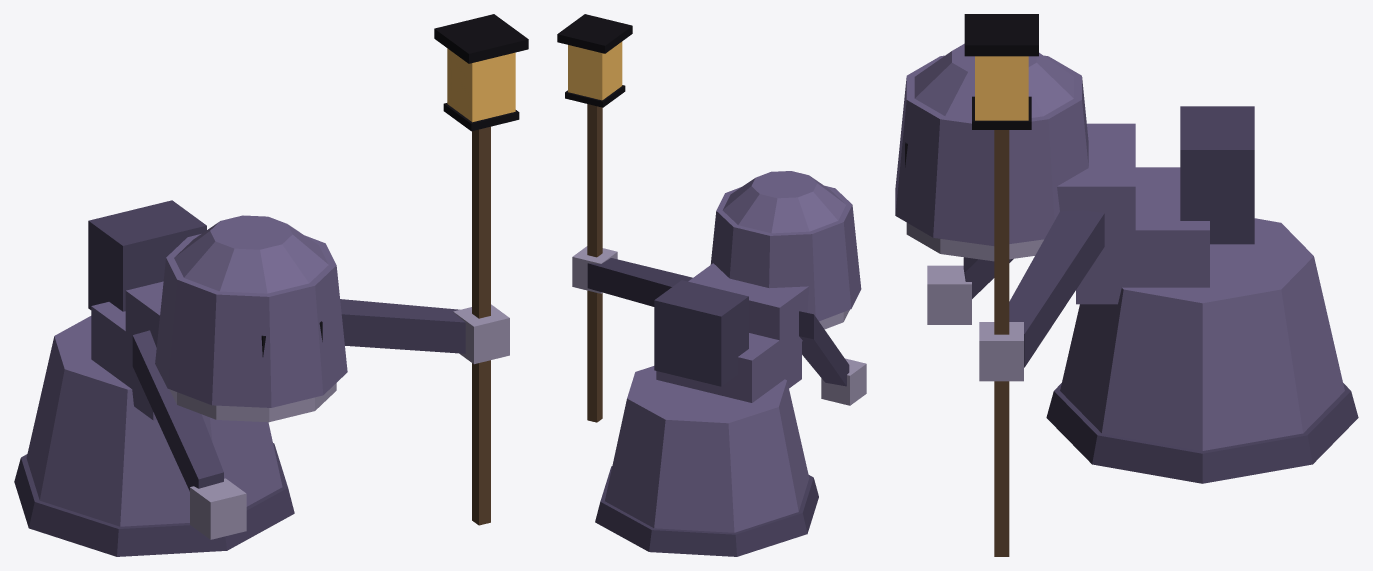
The model's file is HollowParishioner.glb.
3 renders of one model, left to right at view 1: azimuth 30°, elevation 25°; view 2: azimuth 150°, elevation 25°; view 3: azimuth 270°, elevation 25°, orthographic. The views are drawn at different scales.
Visible parts, largest first — view 1: HollowParishioner; view 2: HollowParishioner; view 3: HollowParishioner.
Part boxes in pixels (x1=…): HollowParishioner: x1=14, y1=14, x2=528, y2=556; HollowParishioner: x1=557, y1=14, x2=866, y2=556; HollowParishioner: x1=895, y1=14, x2=1358, y2=556.
Bounding box in the file's own units: 3.25 × 3.89 × 3.12.
Materials: 1 (1 with a texture image).
